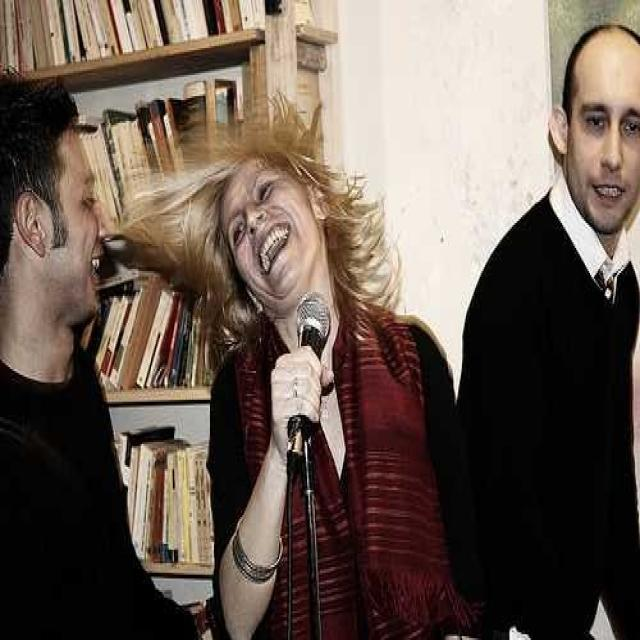microphone: (286, 290, 332, 462)
